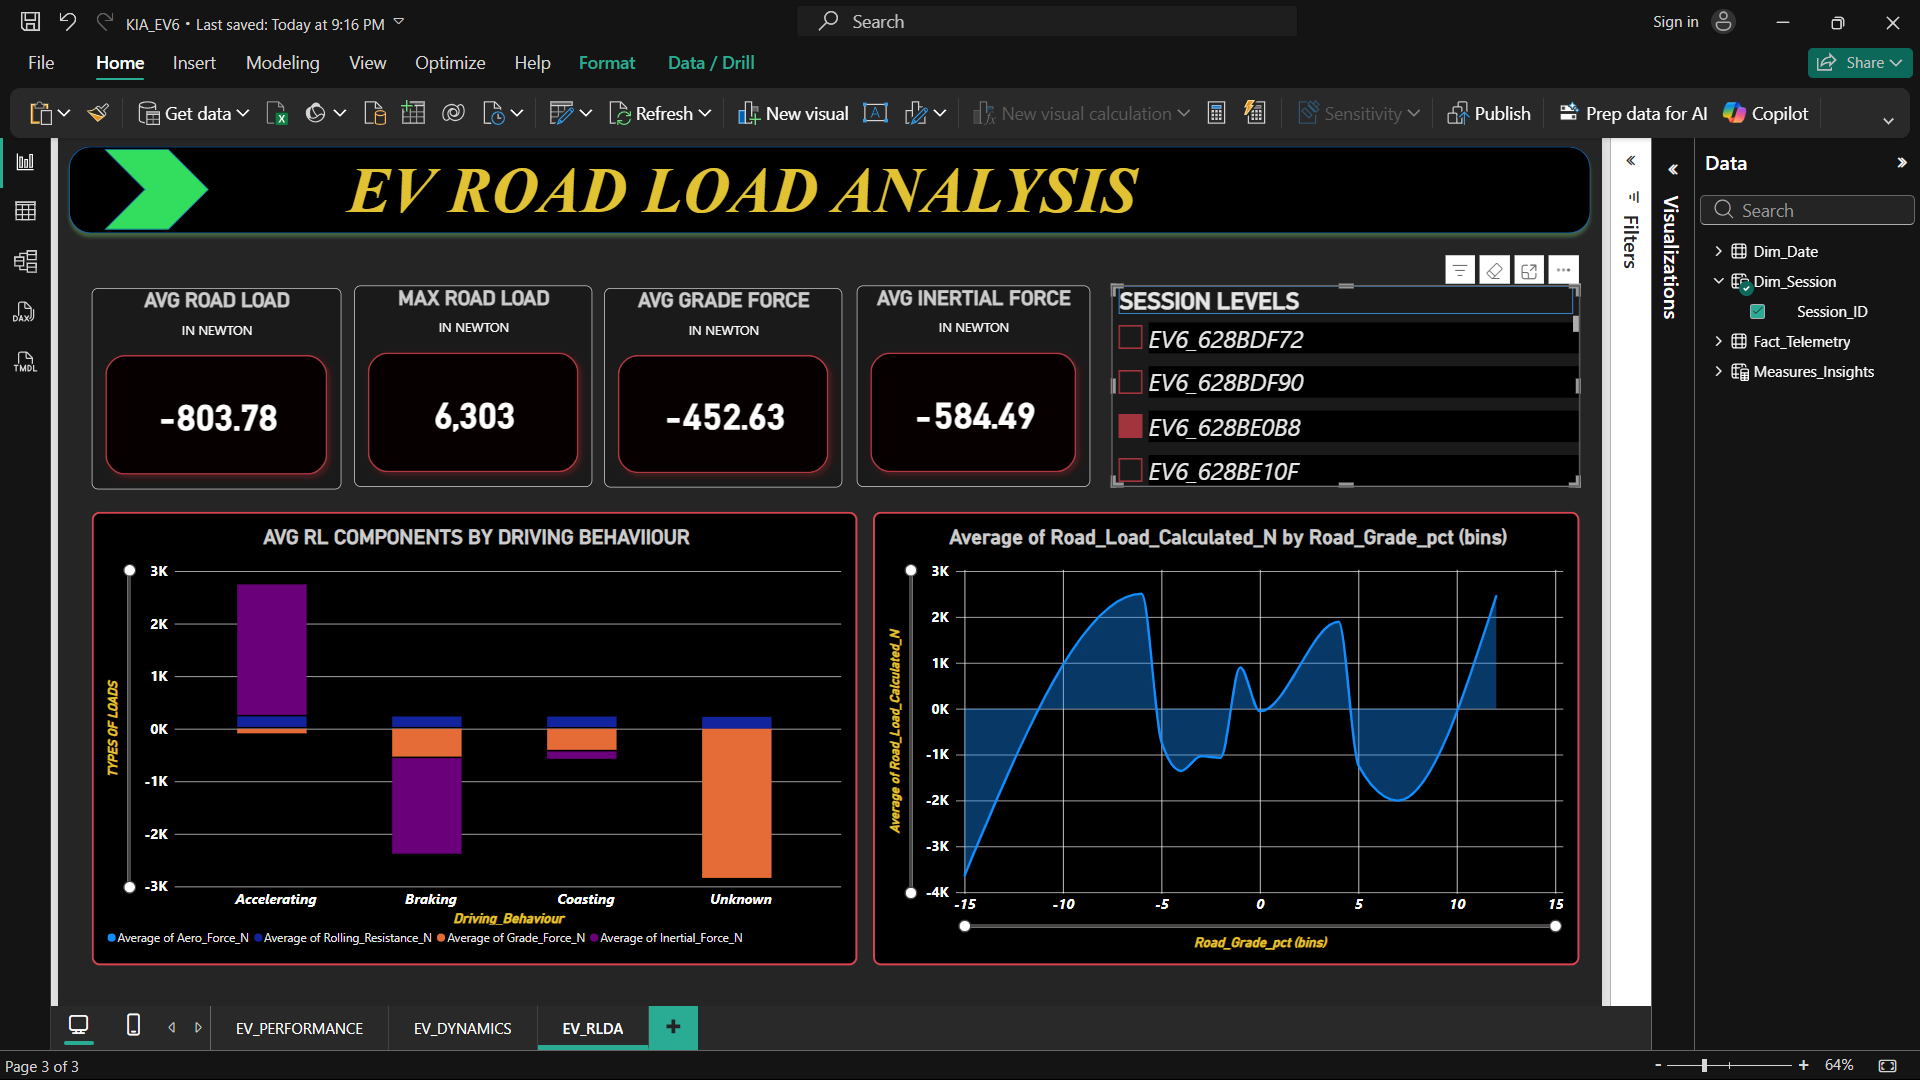

The dashboard page shown, as its layout file describes it:
{"tool":"powerbi","page":{"name":"EV_RLDA","canvas":[1920,1080],"ordinal":2},"visuals":[{"type":"shape","box":[4,2,1910,126],"z":0},{"type":"shape","box":[58,14,130,100],"z":1000},{"type":"textbox","box":[138,18,1426,94],"z":2000},{"type":"cardVisual","title":"MAX ROAD LOAD","fields":{"Data":["Measures_Insights.Max_Road_Load"]},"box":[368,184,296,250],"z":3000},{"type":"cardVisual","title":"AVG ROAD LOAD","fields":{"Data":["Measures_Insights.Avg_Road_Load"]},"box":[42,186,310,250],"z":4000},{"type":"cardVisual","title":"AVG GRADE FORCE","fields":{"Data":["Measures_Insights.Avg_Grade_Force"]},"box":[680,186,296,248],"z":5000},{"type":"cardVisual","title":"AVG INERTIAL FORCE","fields":{"Data":["Measures_Insights.Avg_Inertial_Force"]},"box":[994,184,290,250],"z":6000},{"type":"slicer","fields":{"Values":["Dim_Session.Session_ID"]},"box":[1310,184,582,250],"z":9000},{"type":"columnChart","title":"AVG RL COMPONENTS BY DRIVING BEHAVIIOUR","fields":{"Category":["Fact_Telemetry .Driving_Behaviour"],"Y":["Avg(Fact_Telemetry .Aero_Force_N)","Avg(Fact_Telemetry .Rolling_Resistance_N)","Avg(Fact_Telemetry .Grade_Force_N)","Avg(Fact_Telemetry .Inertial_Force_N)"]},"box":[42,464,952,564],"z":9001},{"type":"stackedAreaChart","fields":{"Category":["Fact_Telemetry .Road_Grade_pct (bins)"],"Y":["Avg(Fact_Telemetry .Road_Load_Calculated_N)"]},"box":[1014,464,878,564],"z":9002}]}

Visuals, with their boxes on the page's 1920x1080 design canvas (x1, y1, x2, y2). These are canvas units, not pixel positions in the 1920x1080 screenshot, which may show the page scaled, cropped or inside an application window:
shape: [4,2,1914,128]
shape: [58,14,188,114]
textbox: [138,18,1564,112]
"MAX ROAD LOAD" cardVisual: [368,184,664,434]
"AVG ROAD LOAD" cardVisual: [42,186,352,436]
"AVG GRADE FORCE" cardVisual: [680,186,976,434]
"AVG INERTIAL FORCE" cardVisual: [994,184,1284,434]
slicer - Dim_Session.Session_ID: [1310,184,1892,434]
"AVG RL COMPONENTS BY DRIVING BEHAVIIOUR" columnChart: [42,464,994,1028]
stackedAreaChart - Fact_Telemetry .Road_Grade_pct (bins) x Avg(Fact_Telemetry .Road_Load_Calculated_N): [1014,464,1892,1028]
